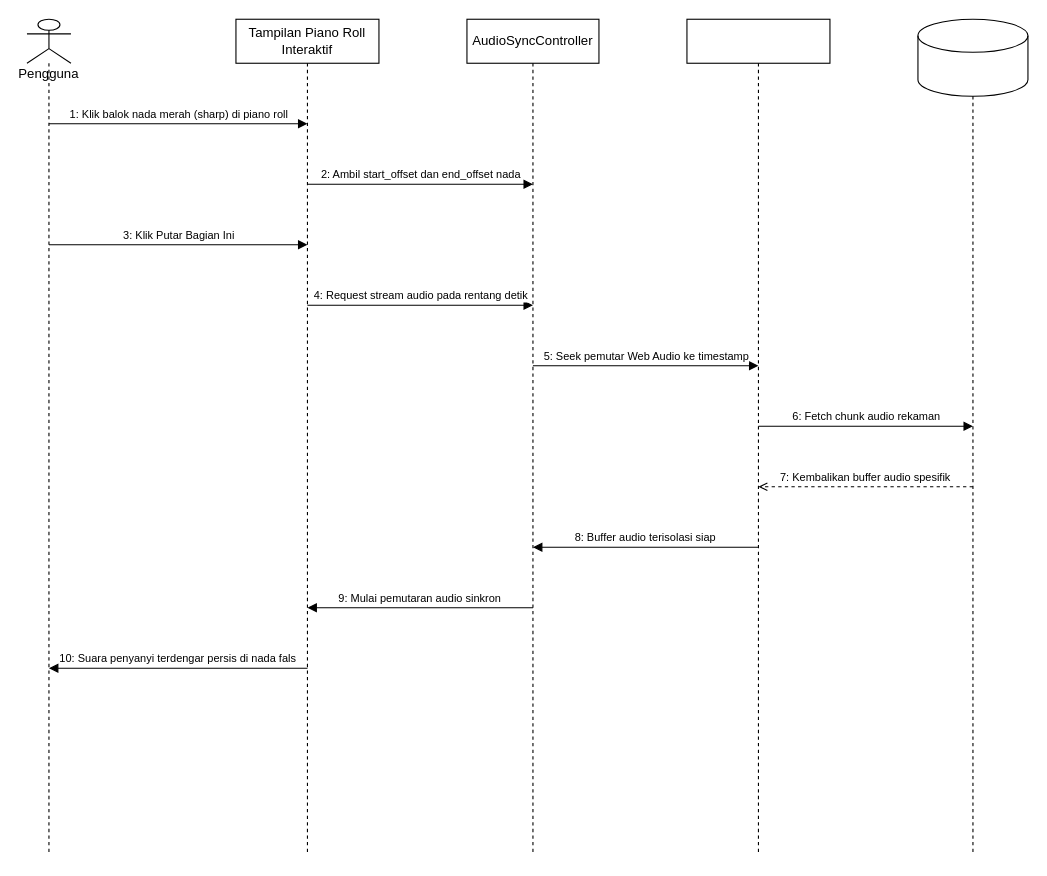
This 1047x876 diagram has some shape labels left out. The shapes that lost their labels are listed below. From the top down, each one's box as (x1, y1, x2, y2) in pixels, then its label:
(917, 18, 1028, 96): <<Database>> AudioStorage
(686, 18, 830, 855): AudioPlaybackService
